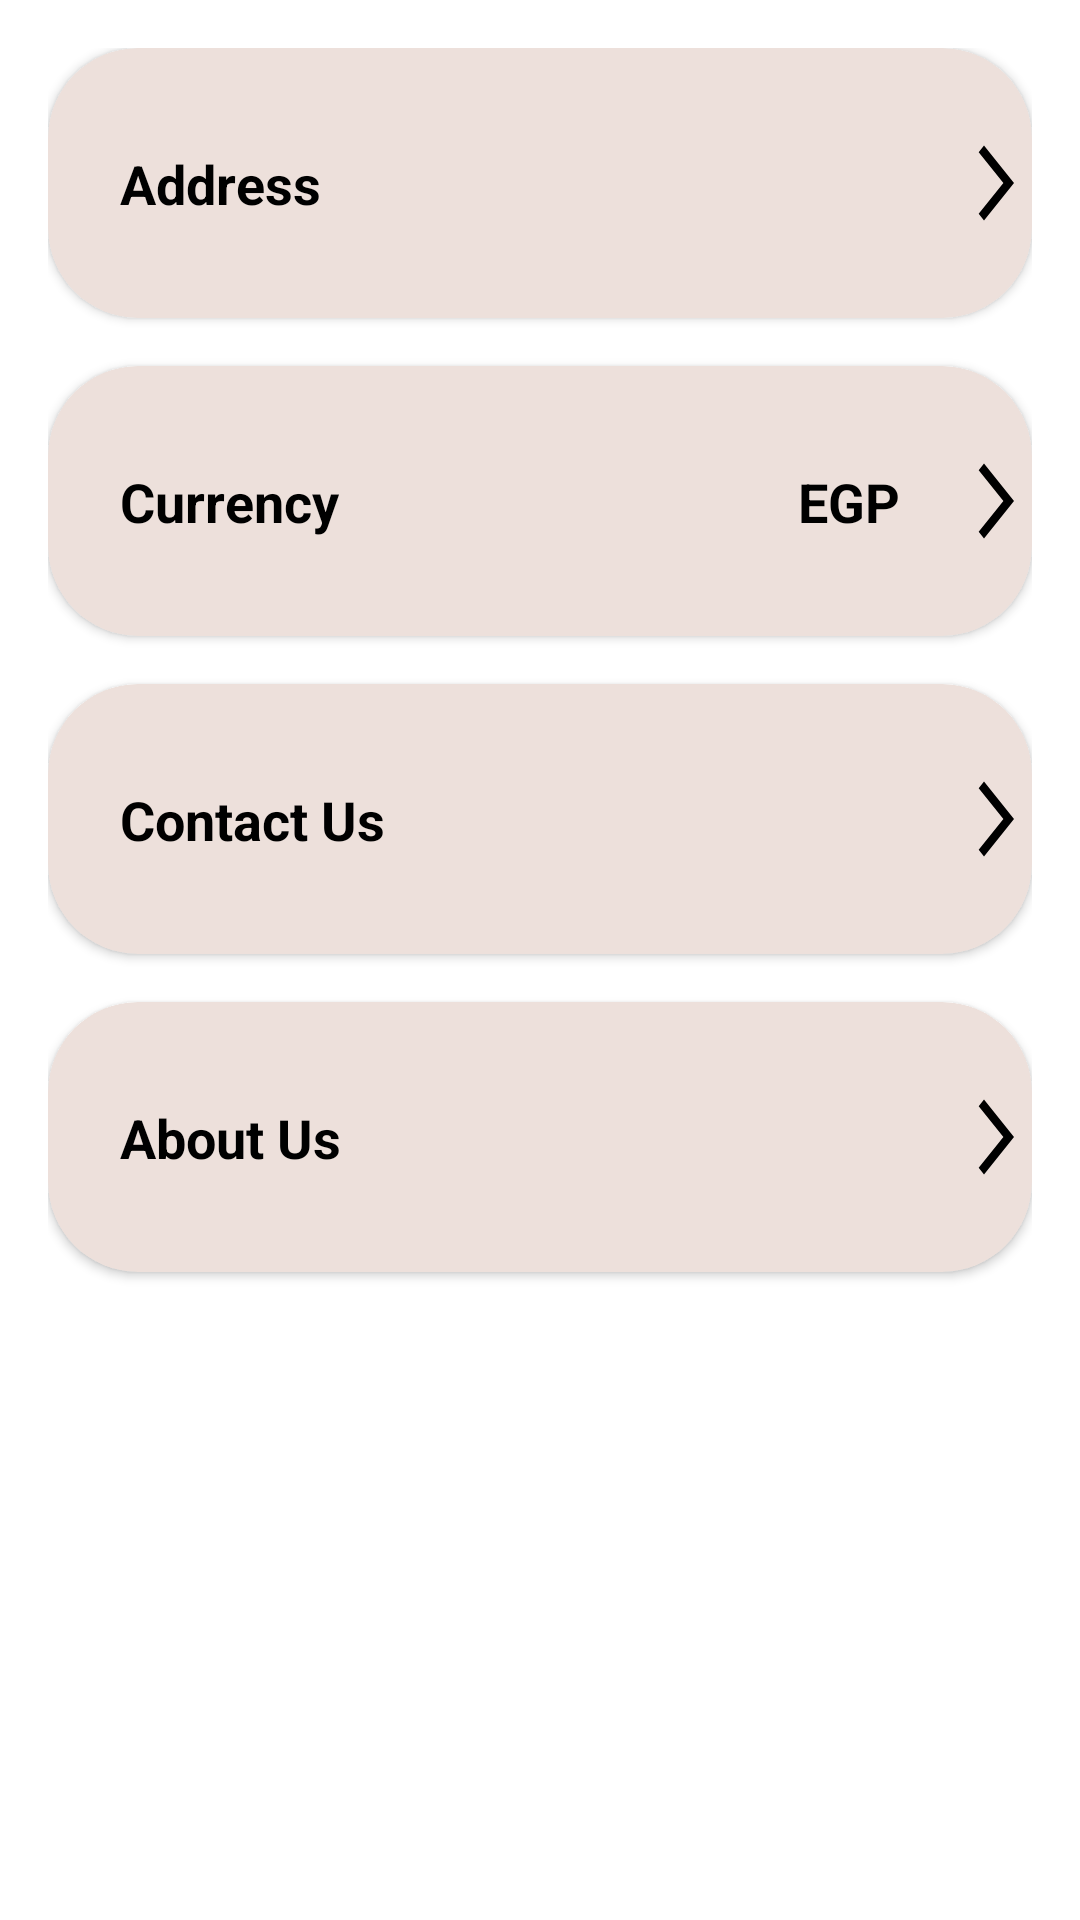

Named icons in this screenshot (1080w x 1920h) and their bounding boxes, {"x1": x1, "y1": y1, "x2": x2, "y2": y2}:
arrow forward: {"x1": 978, "y1": 146, "x2": 1014, "y2": 220}, {"x1": 978, "y1": 464, "x2": 1014, "y2": 538}, {"x1": 978, "y1": 782, "x2": 1014, "y2": 856}, {"x1": 978, "y1": 1100, "x2": 1014, "y2": 1174}
